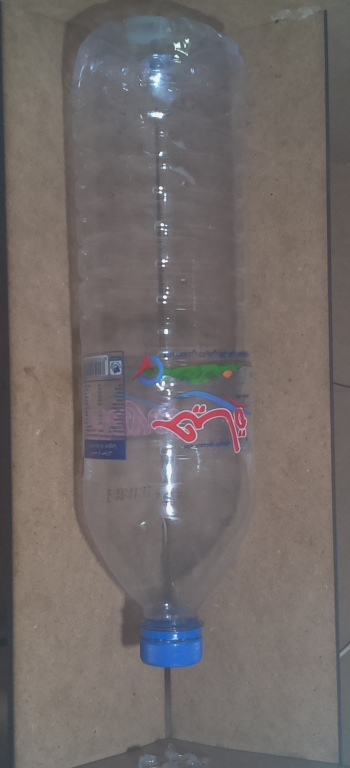Bouteille_1.5L: (55, 11, 269, 679)
